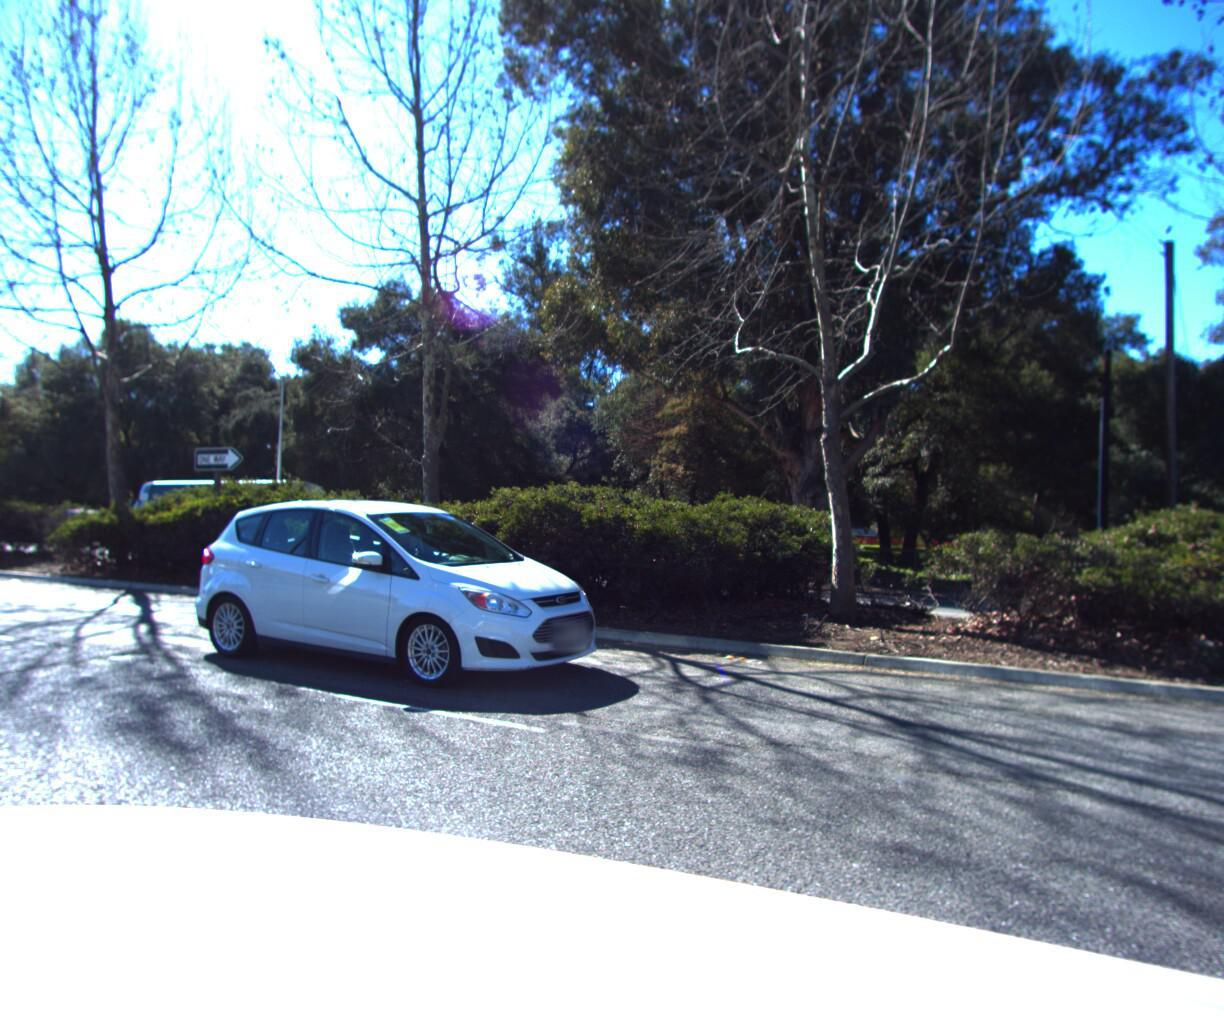bus: (94, 476, 336, 561)
car: (159, 488, 620, 702)
other_vehicle: (0, 482, 7, 545)
